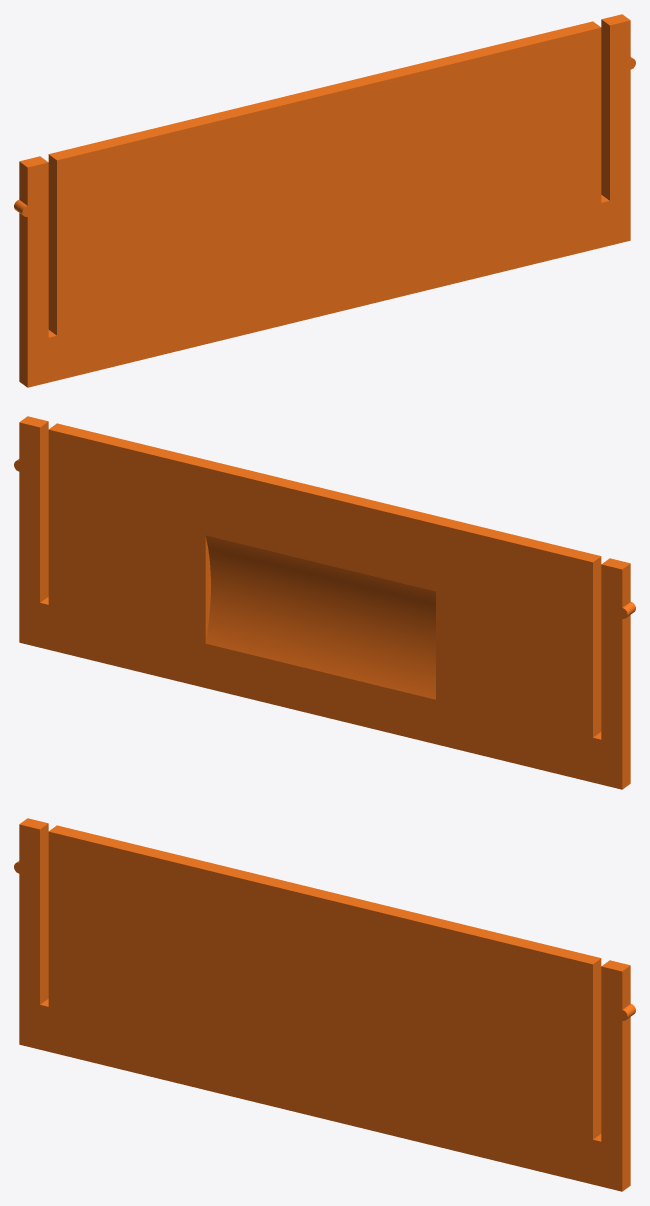
The model's file is battery_door.glb.
3 views of the same model, one above another, from view 1: azimuth 30°, elevation 25°; view 2: azimuth 150°, elevation 25°; view 3: azimuth 330°, elevation 25° (orthographic).
Parts seen in each view (by area): view 1: Open CASCADE STEP translator 7.9 3; view 2: Open CASCADE STEP translator 7.9 3; view 3: Open CASCADE STEP translator 7.9 3.
Boxes of the visible parts, x1,y1,x2,y2 form: Open CASCADE STEP translator 7.9 3: (14,14,635,387); Open CASCADE STEP translator 7.9 3: (14,416,635,789); Open CASCADE STEP translator 7.9 3: (14,818,635,1191).
Bounding box in the file's own units: 0.0586 × 0.0201 × 0.0014.
